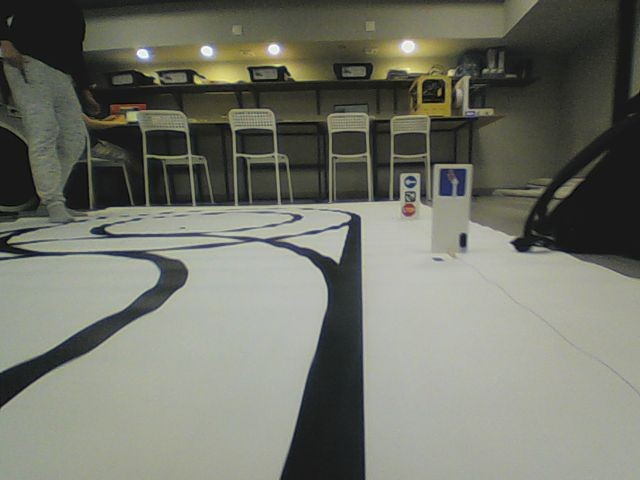priority_movement: (437, 167, 467, 198)
